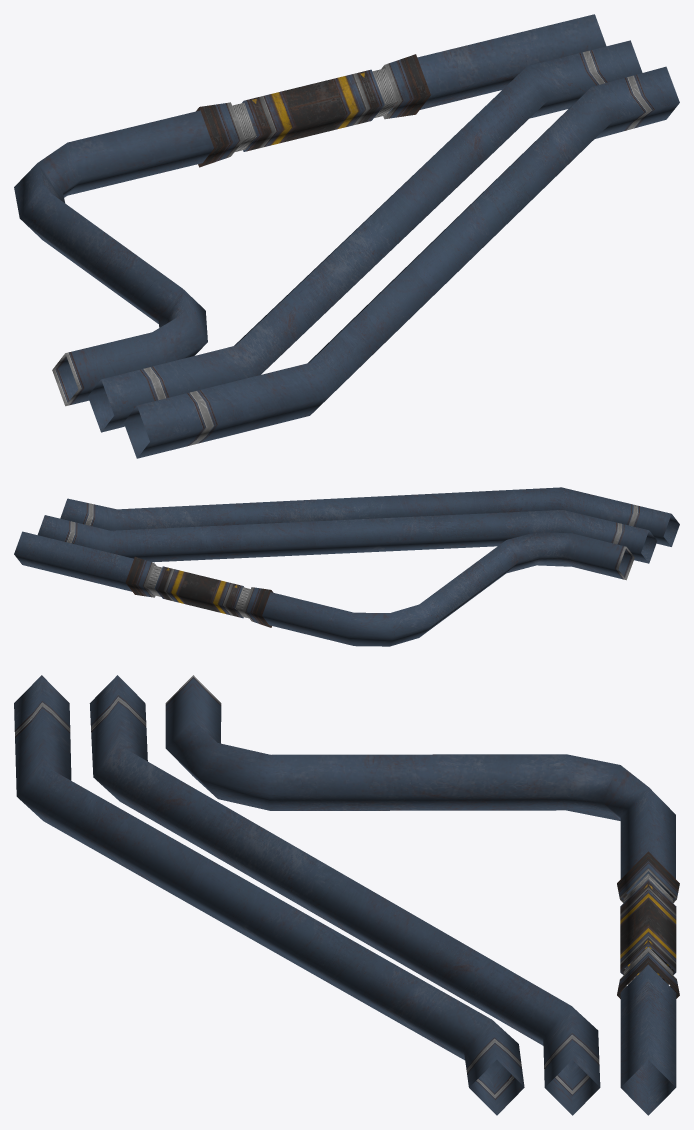
File: Pipe3_Courner5_L2.fbx
3 views of the same model, one above another, from view 1: azimuth 30°, elevation 25°; view 2: azimuth 150°, elevation 25°; view 3: azimuth 270°, elevation 25° (orthographic). The views are drawn at different scales.
Visible parts, largest first — view 1: PIpe5_Courner4_L2; view 2: PIpe5_Courner4_L2; view 3: PIpe5_Courner4_L2.
Part boxes in pixels (x1=…): PIpe5_Courner4_L2: x1=14, y1=14, x2=679, y2=458; PIpe5_Courner4_L2: x1=14, y1=487, x2=679, y2=646; PIpe5_Courner4_L2: x1=14, y1=675, x2=679, y2=1115.
Bounding box in the file's own units: 200 × 15.57 × 146.
